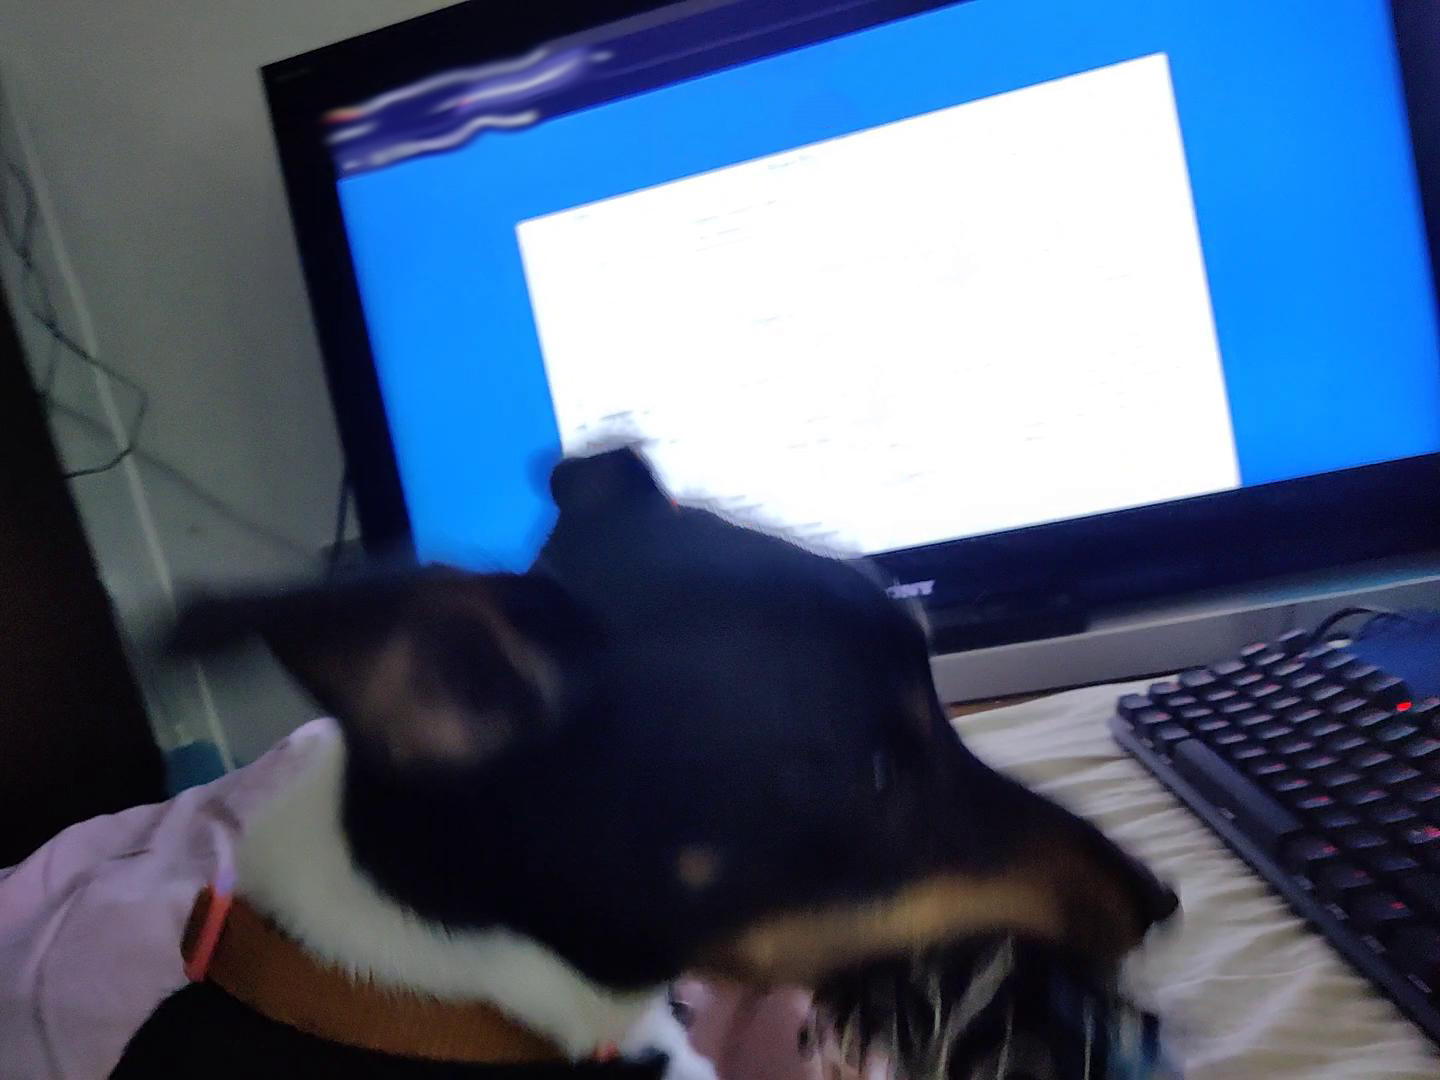Dog: (87, 423, 1181, 1079)
